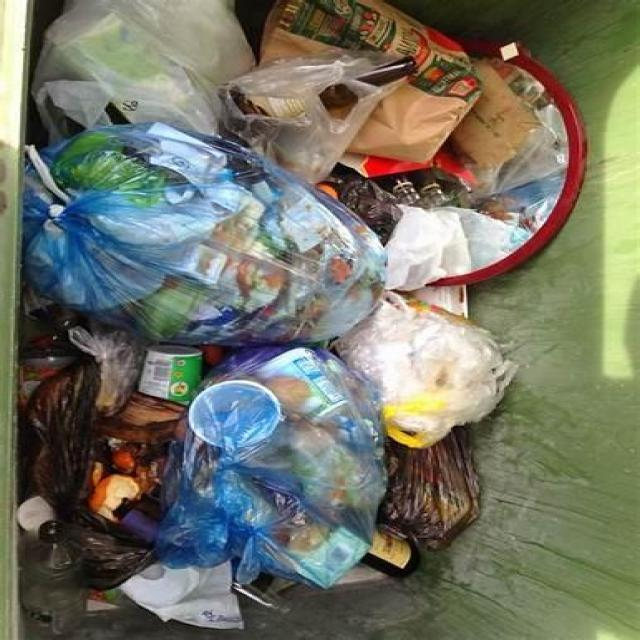Disposable: (120, 563, 242, 629)
Garbage: (12, 0, 586, 640)
Glass_bottle: (373, 168, 468, 207), (361, 529, 419, 578)
Plastic_Bag: (23, 124, 385, 345), (156, 346, 386, 589), (33, 1, 253, 140), (28, 359, 156, 589), (335, 292, 518, 447), (223, 54, 399, 182), (378, 428, 479, 551)
Plastic_Container: (138, 346, 203, 405)
Plastic_bottle: (20, 522, 88, 635)
